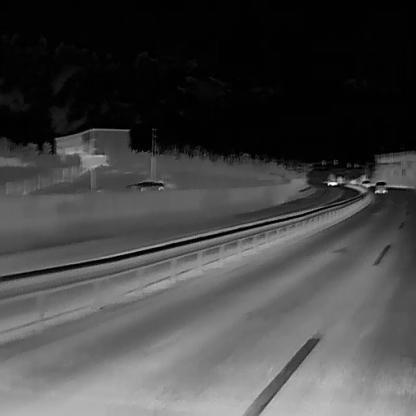car: (373, 181, 387, 194), (327, 173, 337, 186), (360, 179, 371, 188)
